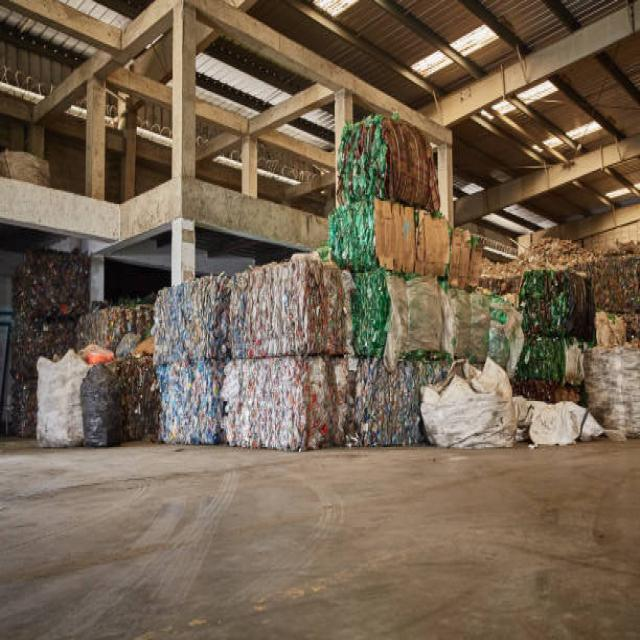cardboard: (375, 210, 455, 279)
trash: (28, 243, 332, 466), (460, 257, 633, 463), (337, 309, 454, 453)
